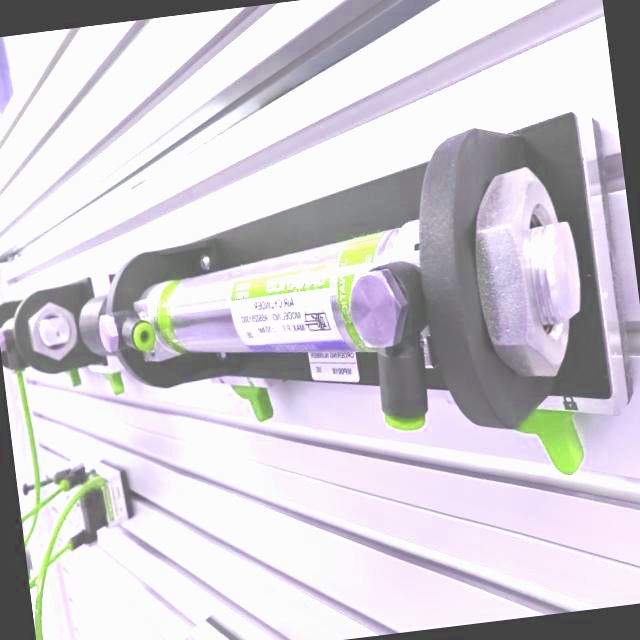double acting pneumatic cylinder: (52, 72, 638, 545)
